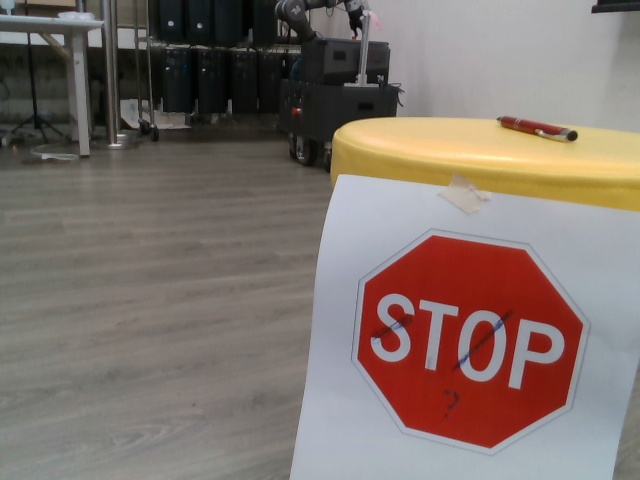stop: (349, 224, 592, 454)
